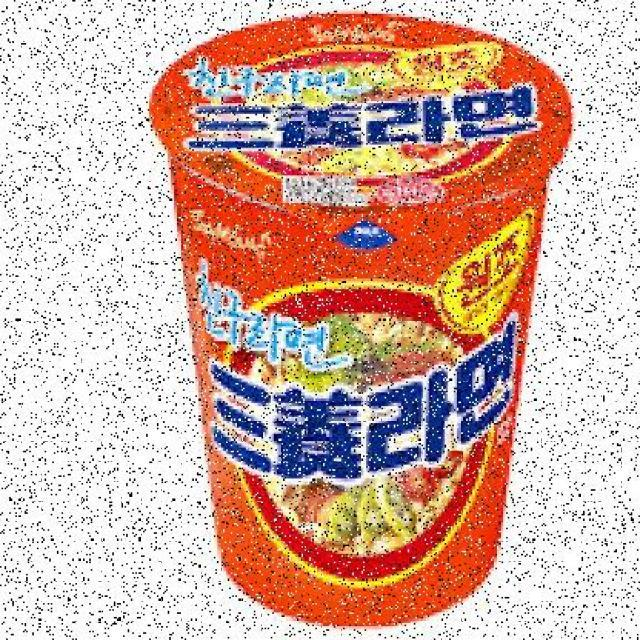Miscellaneous: (140, 3, 554, 620)
